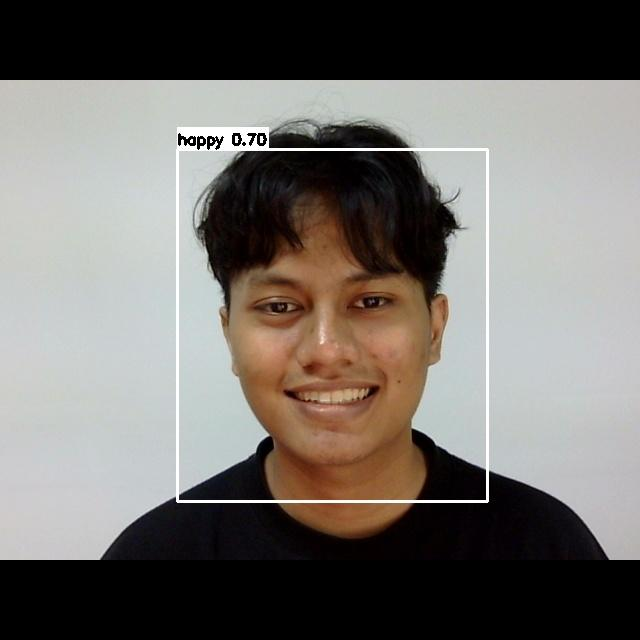Happy: (217, 251, 430, 464)
